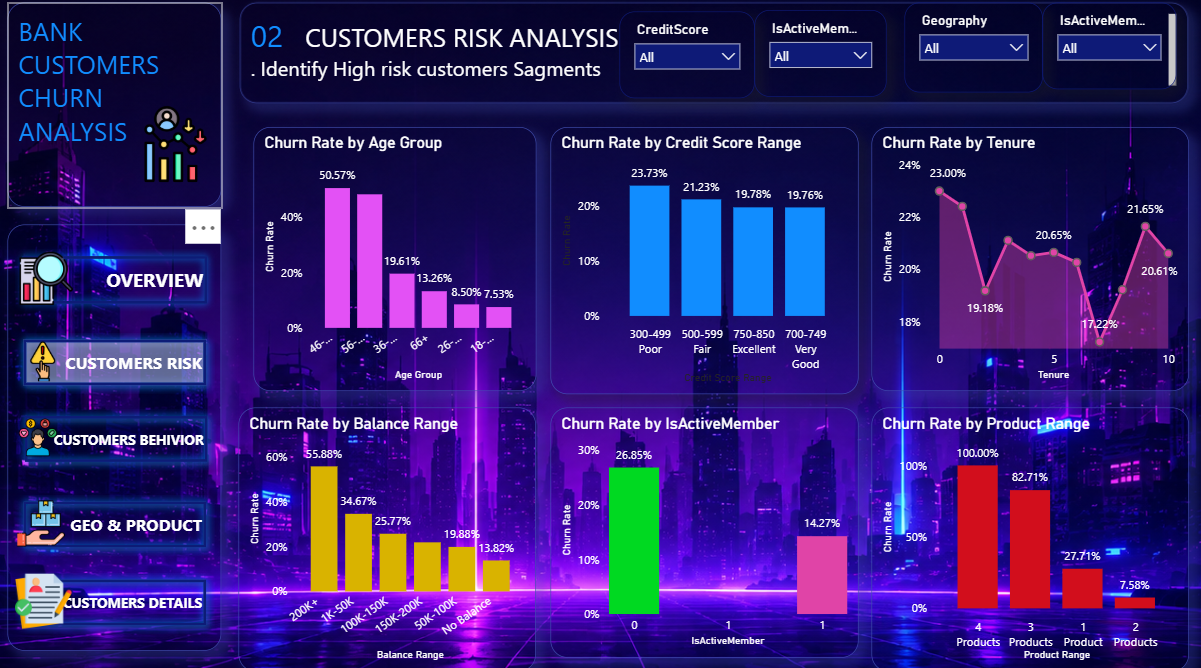

What the dashboard file says about the page in this screenshot:
{"tool":"powerbi","page":{"name":"CUSTOMERS RISK","canvas":[1280,720],"ordinal":1},"visuals":[{"type":"columnChart","fields":{"Y":["Table.Churn Rate"],"Category":["bank_churn bank_customer_churn.Age Group"]},"box":[271.7,143.3,300,280],"z":0},{"type":"columnChart","fields":{"Y":["Table.Churn Rate"],"Category":["bank_churn bank_customer_churn.Credit Score Range"]},"box":[586.7,143.3,326.7,283.3],"z":1000},{"type":"lineChart","fields":{"Y":["Table.Churn Rate"],"Category":["bank_churn bank_customer_churn.Tenure"]},"box":[926.7,143.3,336.7,280],"z":2000},{"type":"clusteredColumnChart","fields":{"Y":["Table.Churn Rate"],"Category":["bank_churn bank_customer_churn.Product Range"]},"box":[926.7,440,336.7,280],"z":3000},{"type":"columnChart","fields":{"Y":["Table.Churn Rate"],"Category":["bank_churn bank_customer_churn.IsActiveMember"]},"box":[586.7,440,326.7,265],"z":4000},{"type":"textbox","box":[257.7,11.1,1005.3,106.6],"z":5000},{"type":"textbox","box":[11.7,246.7,226.7,451.7],"z":6000},{"type":"textbox","box":[11.7,11.7,226.7,216.7],"z":7000},{"type":"actionButton","box":[18.3,271.7,211.7,66.7],"z":8000},{"type":"actionButton","box":[18.3,360,211.7,66.7],"z":9000},{"type":"actionButton","box":[20,440,211.7,66.7],"z":10000},{"type":"actionButton","box":[18.3,531.7,211.7,66.7],"z":11000},{"type":"actionButton","box":[18.3,613.3,211.7,66.7],"z":12000},{"type":"image","box":[147.9,106.6,82.7,109.8],"z":13000},{"type":"image","box":[20,531.7,51.7,63.3],"z":14000},{"type":"image","box":[28.3,360,43.3,63.3],"z":15000},{"type":"image","box":[20,440,45,63.3],"z":16000},{"type":"image","box":[23.3,271.7,56.7,63.3],"z":17000},{"type":"image","box":[18.3,613.3,60,63.3],"z":18000},{"type":"columnChart","fields":{"Y":["Table.Churn Rate"],"Category":["bank_churn bank_customer_churn.Balance Range"]},"box":[256.7,440,315,280],"z":19000},{"type":"slicer","fields":{"Values":["bank_churn bank_customer_churn.CreditScore"]},"box":[660,20,143.3,91.7],"z":20000},{"type":"slicer","fields":{"Values":["bank_churn bank_customer_churn.IsActiveMember"]},"box":[803.3,18.3,140,91.7],"z":21000},{"type":"slicer","fields":{"Values":["bank_churn bank_customer_churn.Geography"]},"box":[961.7,11.7,146.7,95],"z":22000},{"type":"slicer","fields":{"Values":["bank_churn bank_customer_churn.IsActiveMember","bank_churn bank_customer_churn.Product Range"]},"box":[1108.3,11.7,141.7,91.7],"z":23000}]}

Visuals, with their boxes in screenshot pixels (x1, y1, x2, y2), scaled from the page's 1280x720 canvas onto the 1201x668 screenshot:
columnChart - Table.Churn Rate x bank_churn bank_customer_churn.Age Group: pyautogui.locateOnScreen(255, 133, 536, 393)
columnChart - Table.Churn Rate x bank_churn bank_customer_churn.Credit Score Range: pyautogui.locateOnScreen(550, 133, 857, 396)
lineChart - Table.Churn Rate x bank_churn bank_customer_churn.Tenure: pyautogui.locateOnScreen(870, 133, 1185, 393)
clusteredColumnChart - Table.Churn Rate x bank_churn bank_customer_churn.Product Range: pyautogui.locateOnScreen(870, 408, 1185, 667)
columnChart - Table.Churn Rate x bank_churn bank_customer_churn.IsActiveMember: pyautogui.locateOnScreen(550, 408, 857, 654)
textbox: pyautogui.locateOnScreen(242, 10, 1185, 109)
textbox: pyautogui.locateOnScreen(11, 229, 224, 648)
textbox: pyautogui.locateOnScreen(11, 11, 224, 212)
actionButton: pyautogui.locateOnScreen(17, 252, 216, 314)
actionButton: pyautogui.locateOnScreen(17, 334, 216, 396)
actionButton: pyautogui.locateOnScreen(19, 408, 217, 470)
actionButton: pyautogui.locateOnScreen(17, 493, 216, 555)
actionButton: pyautogui.locateOnScreen(17, 569, 216, 631)
image: pyautogui.locateOnScreen(139, 99, 216, 201)
image: pyautogui.locateOnScreen(19, 493, 67, 552)
image: pyautogui.locateOnScreen(27, 334, 67, 393)
image: pyautogui.locateOnScreen(19, 408, 61, 467)
image: pyautogui.locateOnScreen(22, 252, 75, 311)
image: pyautogui.locateOnScreen(17, 569, 73, 628)
columnChart - Table.Churn Rate x bank_churn bank_customer_churn.Balance Range: pyautogui.locateOnScreen(241, 408, 536, 667)
slicer - bank_churn bank_customer_churn.CreditScore: pyautogui.locateOnScreen(619, 19, 754, 104)
slicer - bank_churn bank_customer_churn.IsActiveMember: pyautogui.locateOnScreen(754, 17, 885, 102)
slicer - bank_churn bank_customer_churn.Geography: pyautogui.locateOnScreen(902, 11, 1040, 99)
slicer - bank_churn bank_customer_churn.IsActiveMember x bank_churn bank_customer_churn.Product Range: pyautogui.locateOnScreen(1040, 11, 1173, 96)
